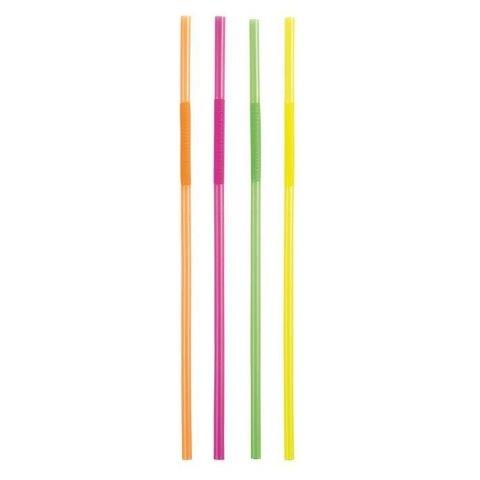sedotan: (249, 18, 262, 459), (180, 15, 192, 460), (284, 17, 296, 458), (215, 17, 226, 463)
